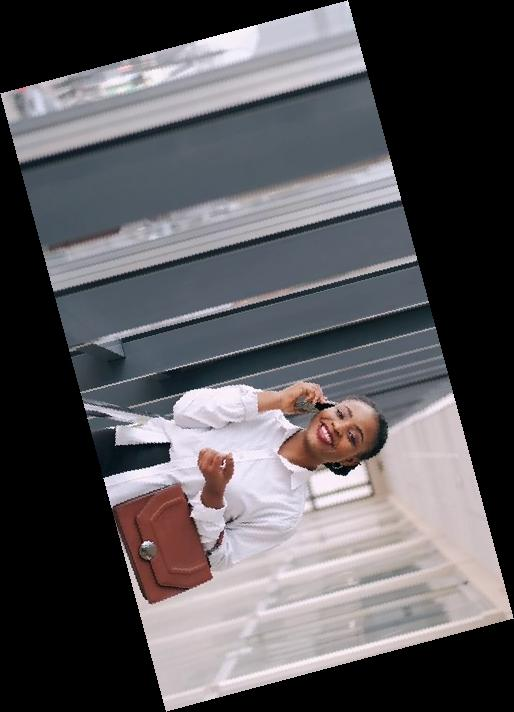phone: (312, 393, 339, 411)
